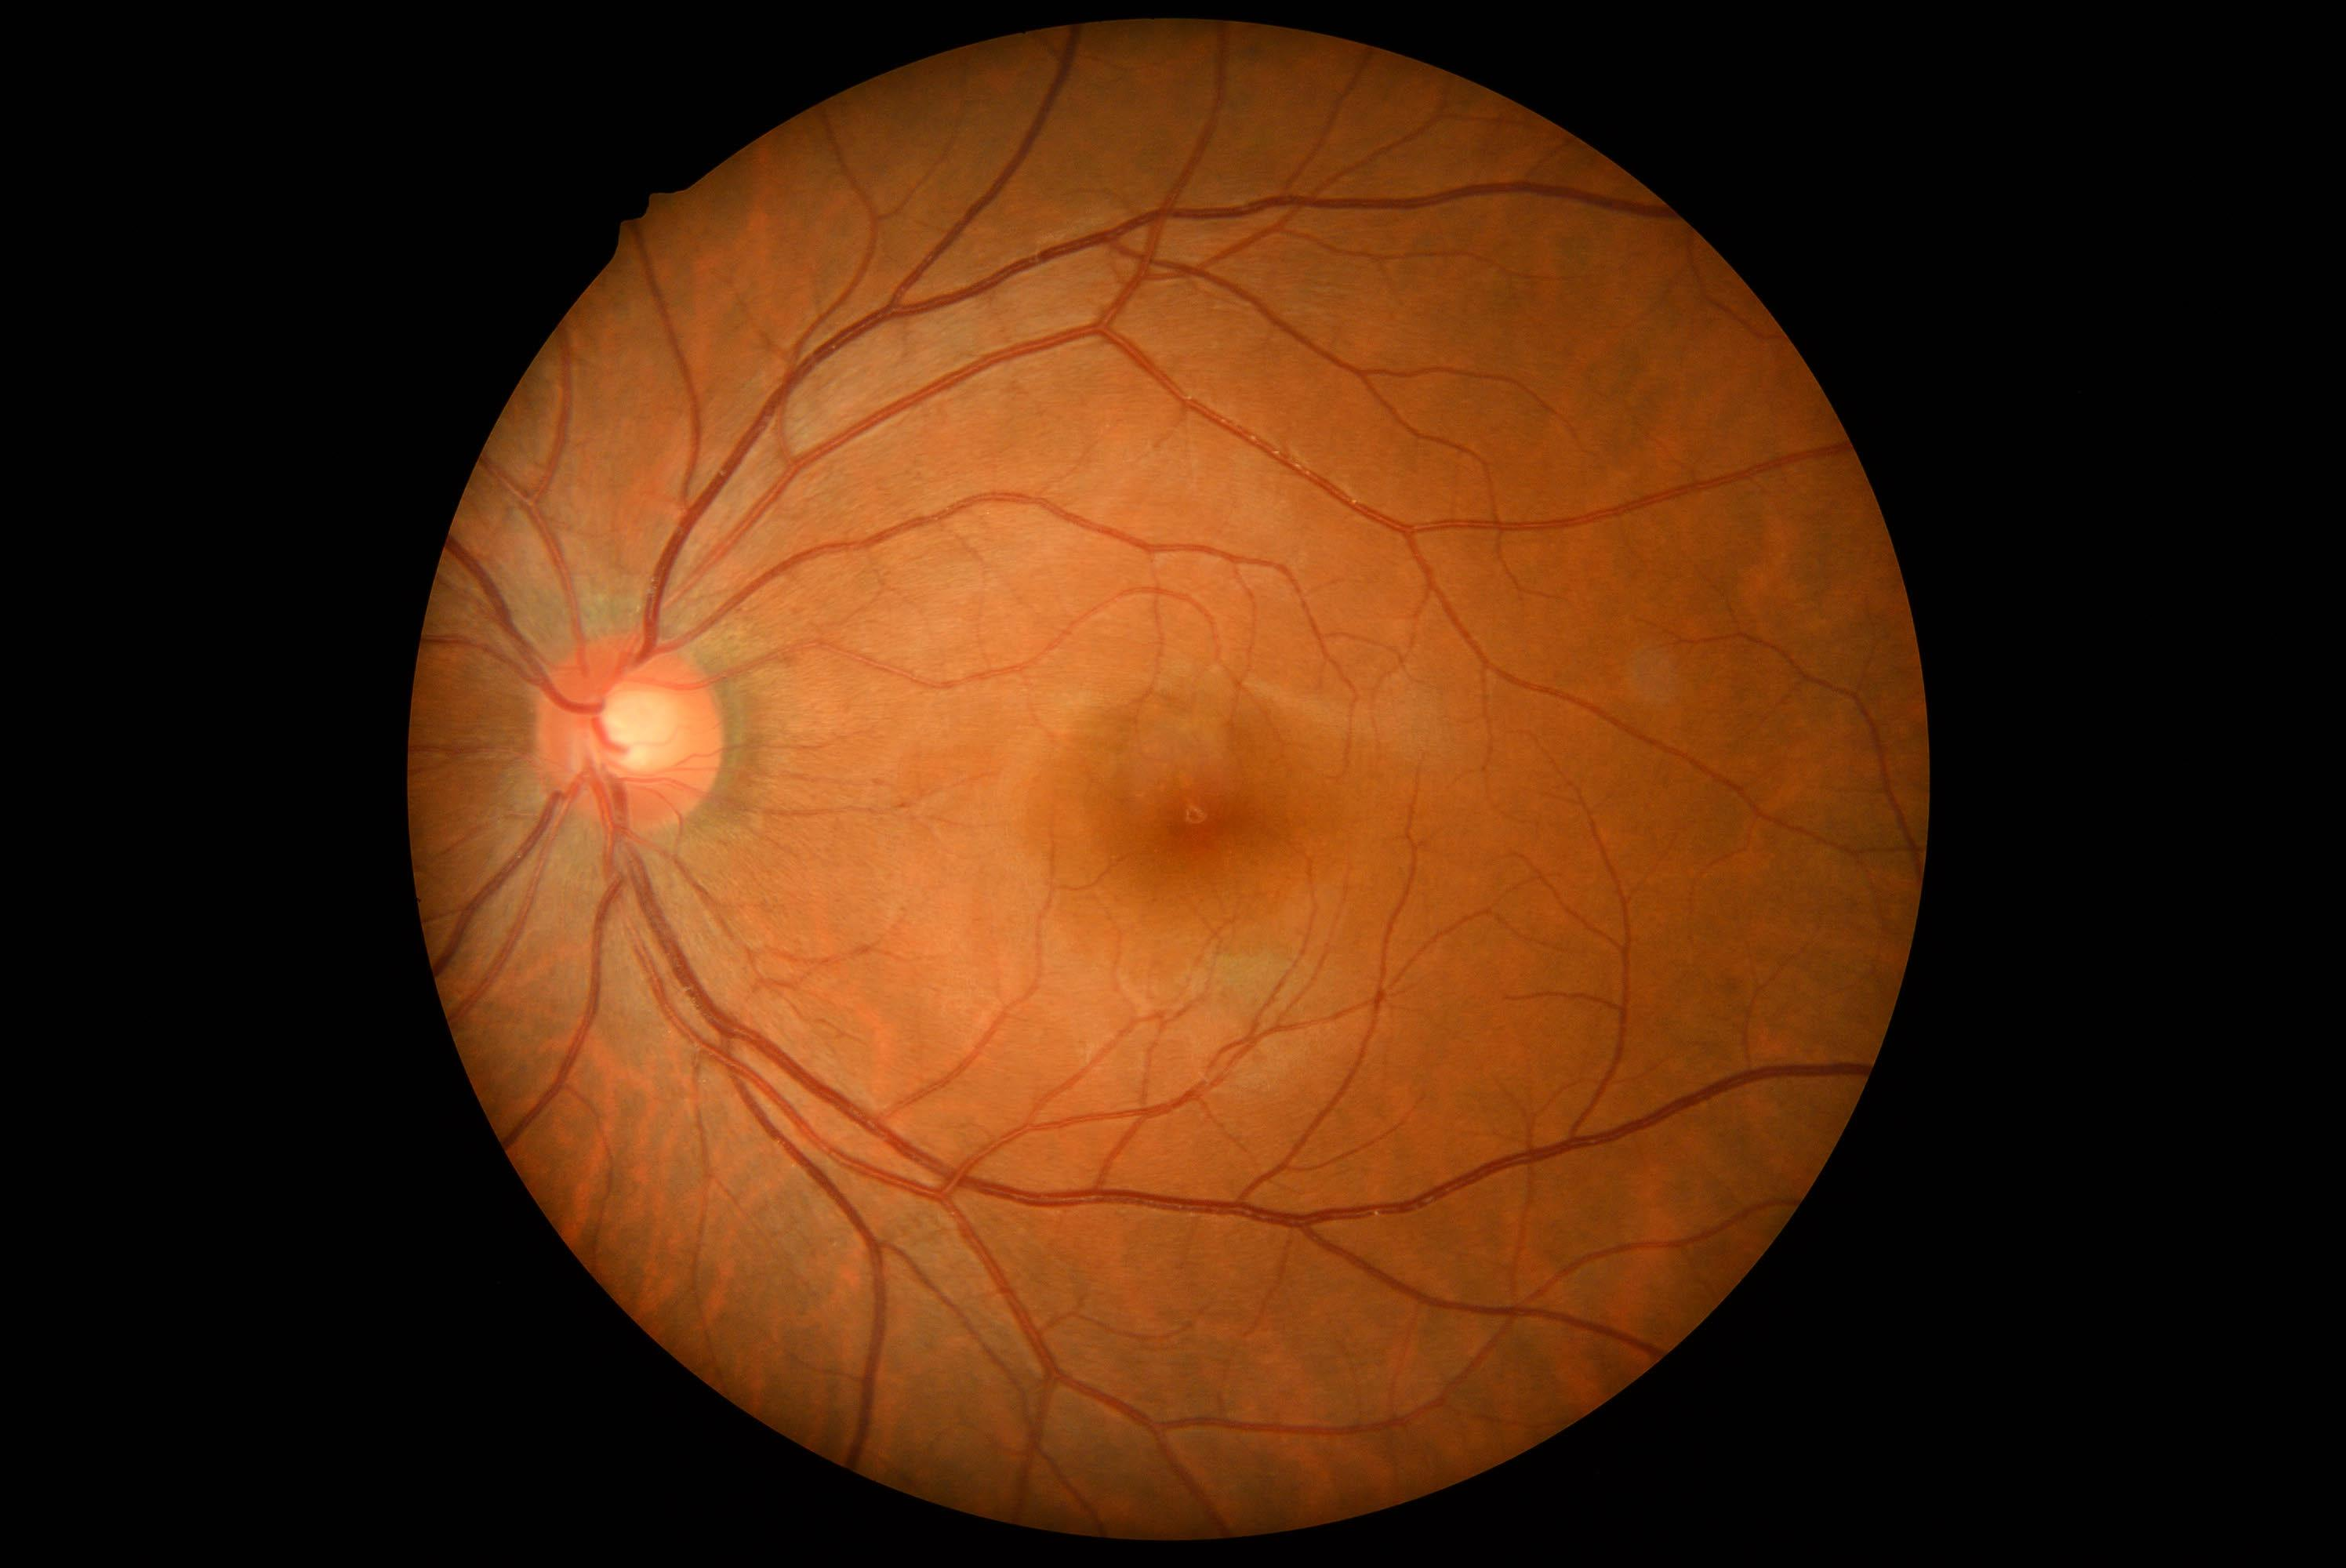Fovea: (1114, 737, 1274, 891)
